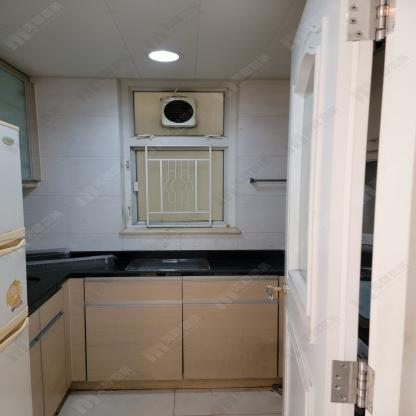Cupboard: (26, 276, 281, 414)
